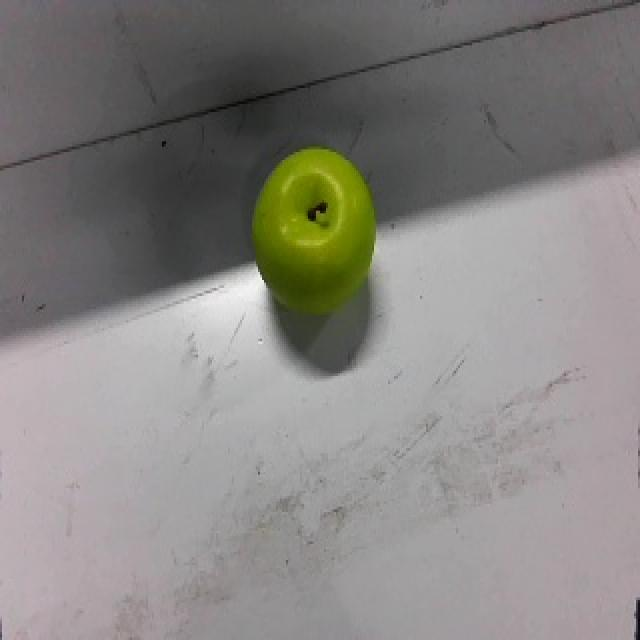apple: (250, 142, 378, 317)
